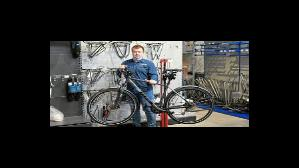mask_weared_incorrect: (133, 50, 143, 60)
